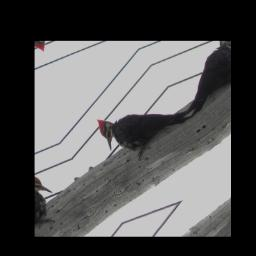Woodpecker: (89, 74, 196, 172)
